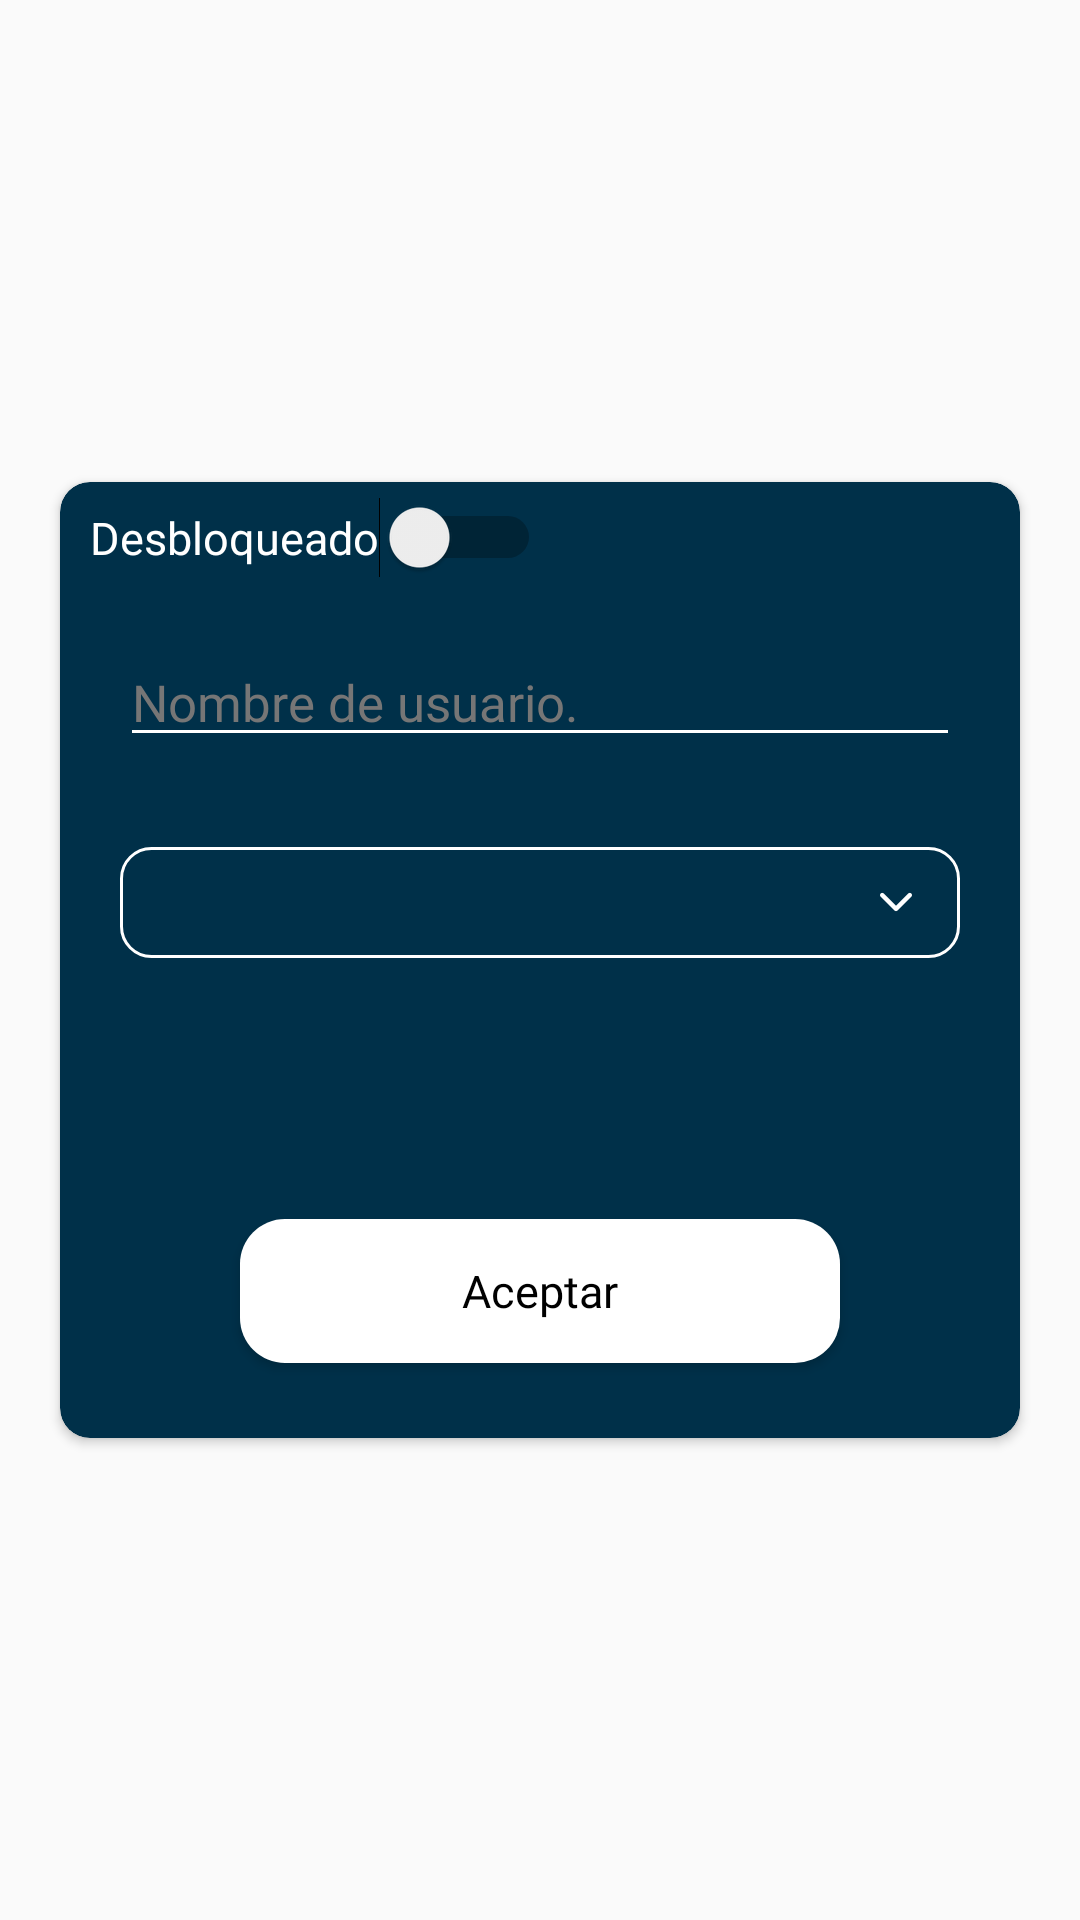

Icon click points for this 1080w x 1920h phone screenshot, format point (x, y):
down: point (896, 902)
